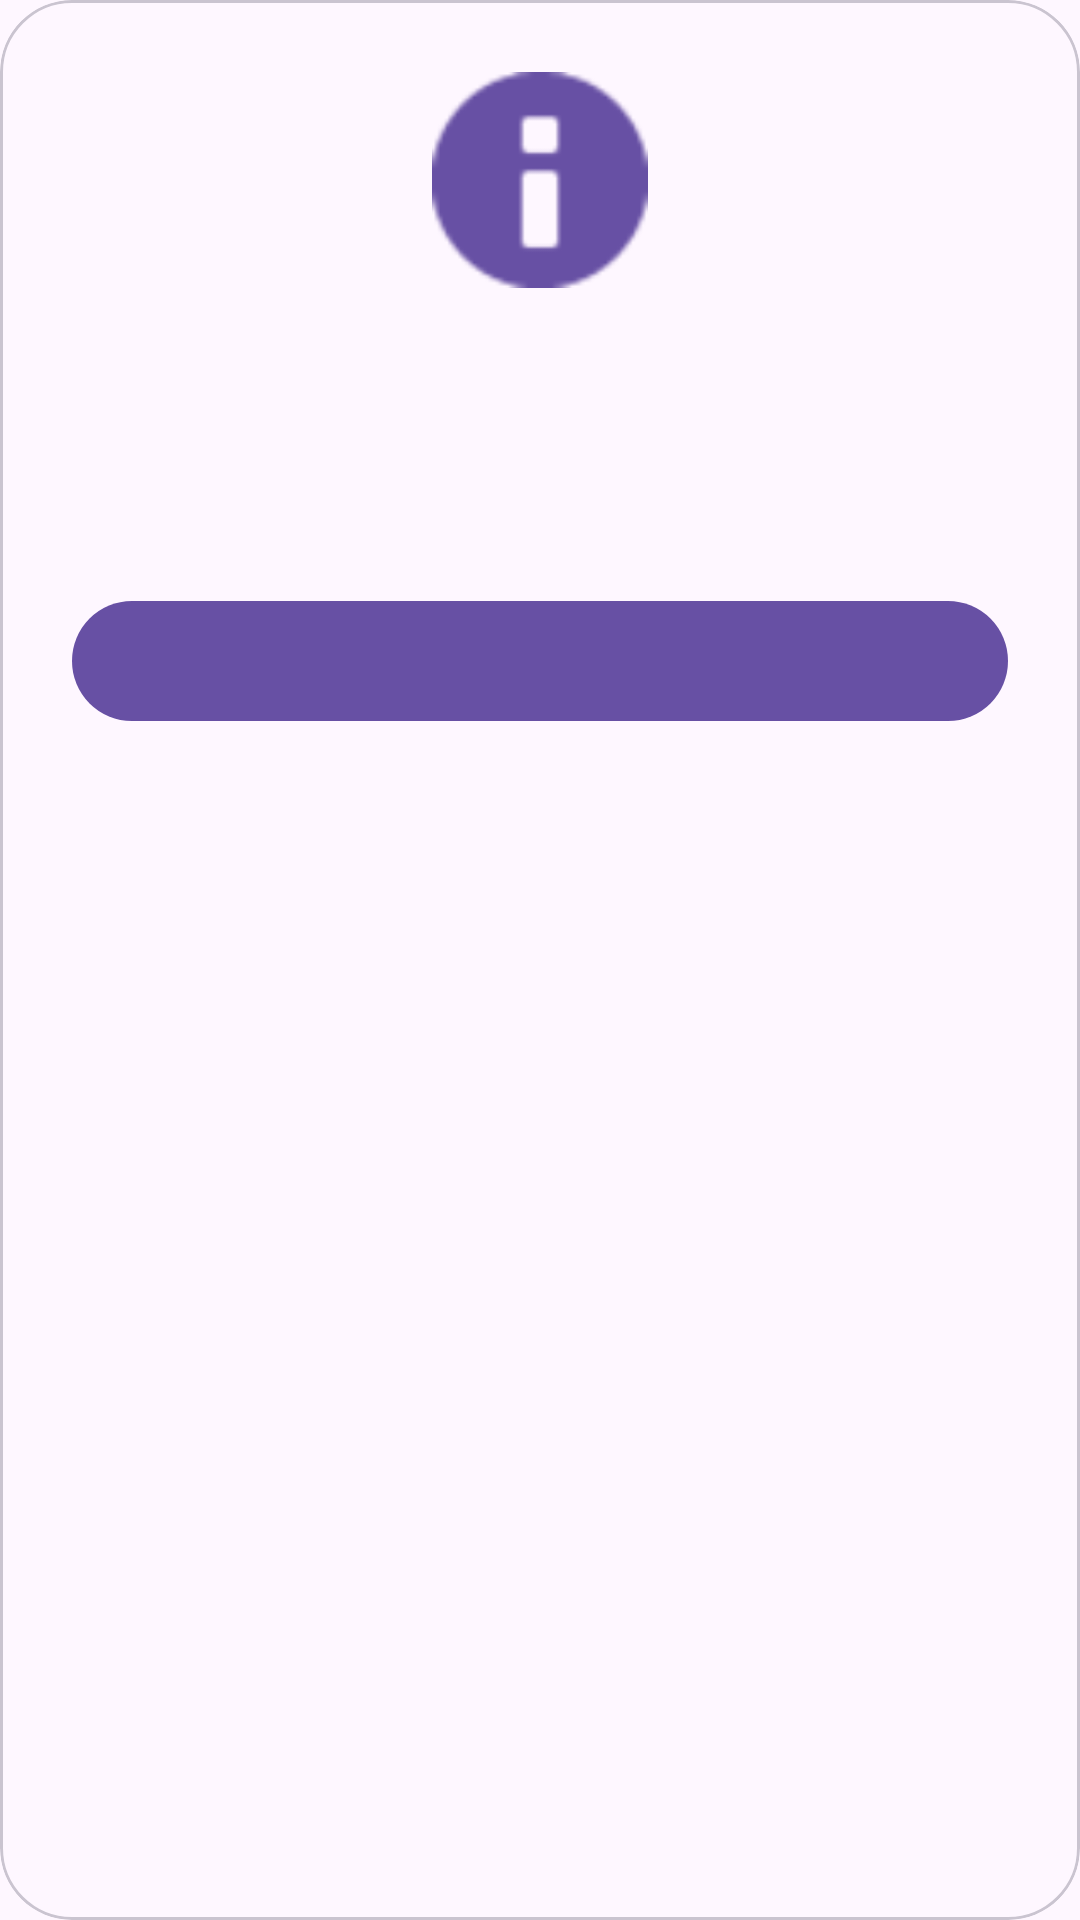

Screen size 1080 x 1920. Icon name, then its box in pixels as region(x1, y1, x2, y2):
info: region(432, 72, 648, 288)
